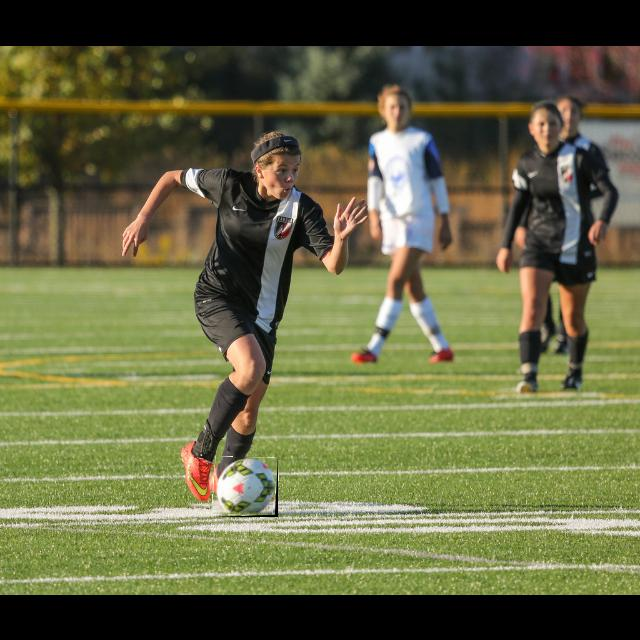Football: (214, 457, 278, 517)
